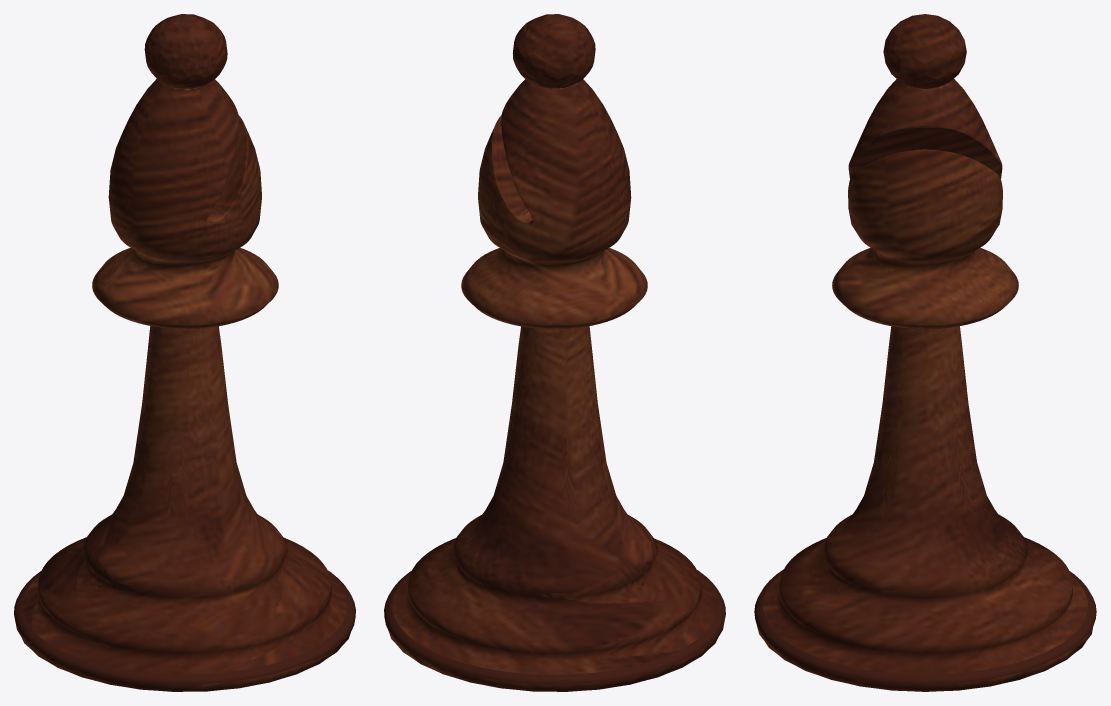
The model's file is bishop_black.glb.
The picture shows the model from 3 angles, left to right: view 1: azimuth 30°, elevation 25°; view 2: azimuth 150°, elevation 25°; view 3: azimuth 270°, elevation 25°; orthographic projection.
Parts seen in each view (by area): view 1: Cylinder; view 2: Cylinder; view 3: Cylinder.
Boxes of the visible parts, bbox=[...] form: Cylinder: bbox=[14, 14, 355, 691]; Cylinder: bbox=[384, 14, 725, 691]; Cylinder: bbox=[754, 14, 1096, 691].
Bounding box in the file's own units: 0.5998 × 1.19 × 0.5998.
Materials: 1 (1 with a texture image).
